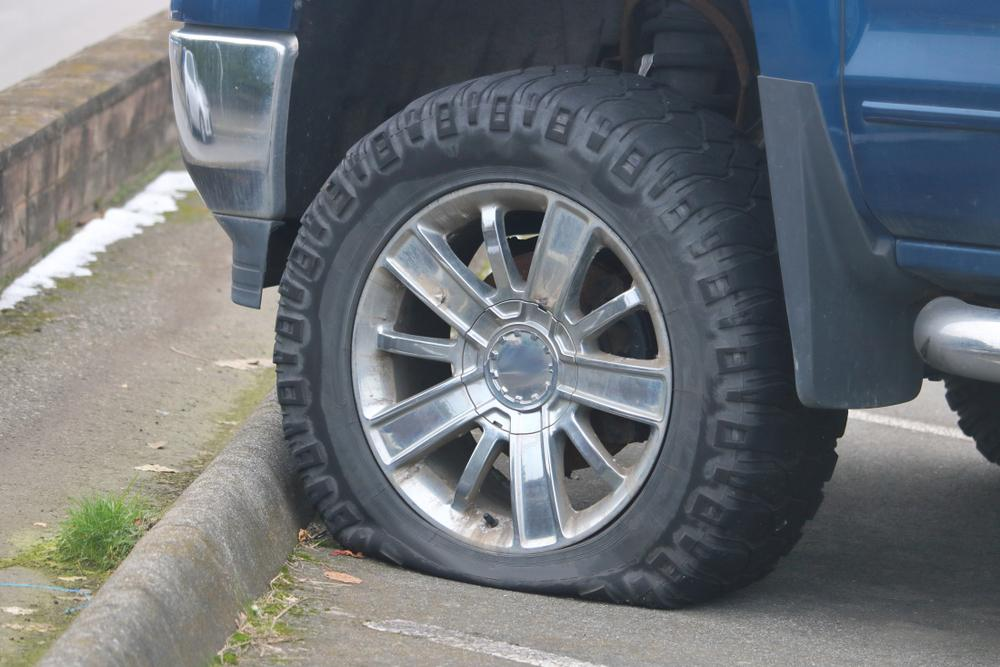tire flat: (275, 62, 847, 613)
